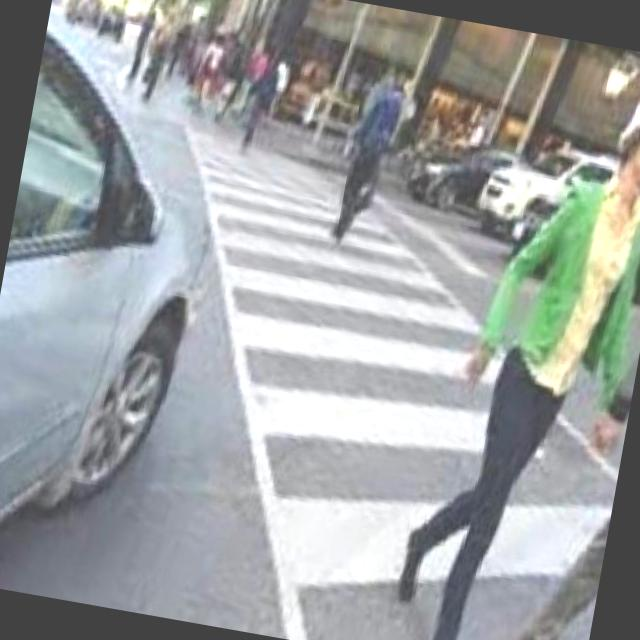Person: (385, 58, 640, 640), (323, 49, 416, 250)
